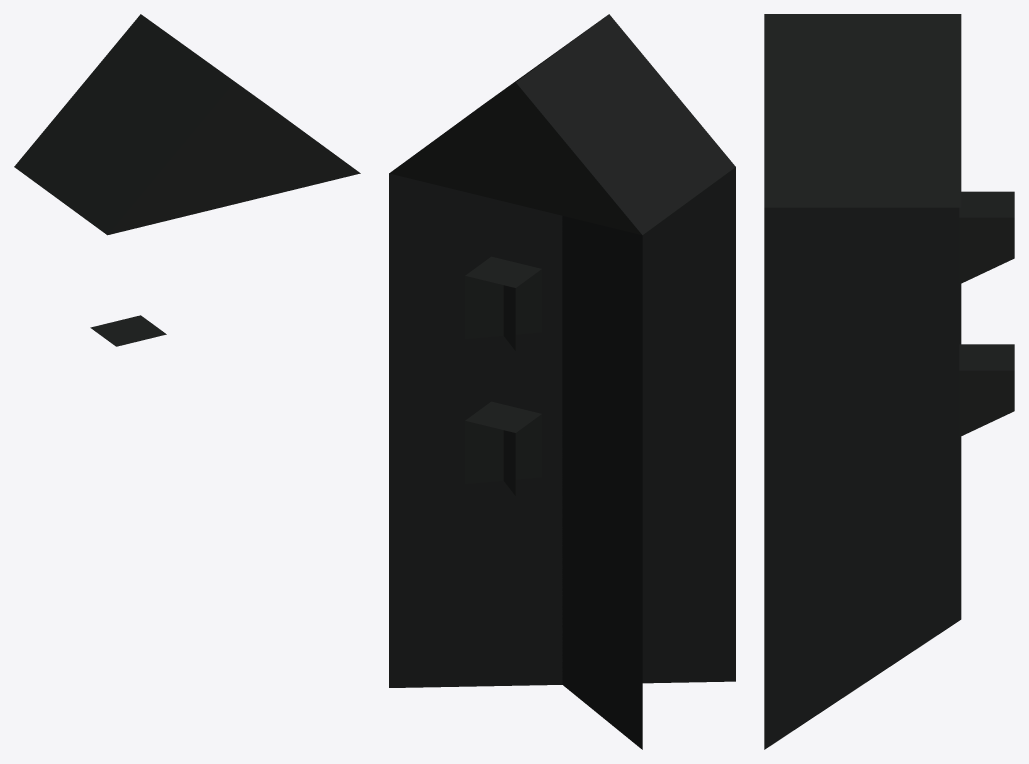
Rendered from AMB_KODATE_D4_04.glb.
3 views of the same model, side by side, from view 1: azimuth 30°, elevation 25°; view 2: azimuth 150°, elevation 25°; view 3: azimuth 270°, elevation 25° (orthographic). The views are drawn at different scales.
Visible parts, largest first — view 1: BASE; view 2: BASE; view 3: BASE.
Boxes of the visible parts, x1=… form: BASE: x1=14, y1=14, x2=360, y2=346; BASE: x1=389, y1=14, x2=735, y2=749; BASE: x1=764, y1=14, x2=1014, y2=749.
Bounding box in the file's own units: 34.11 × 81.87 × 27.68.
Materials: 1 (1 with a texture image).
